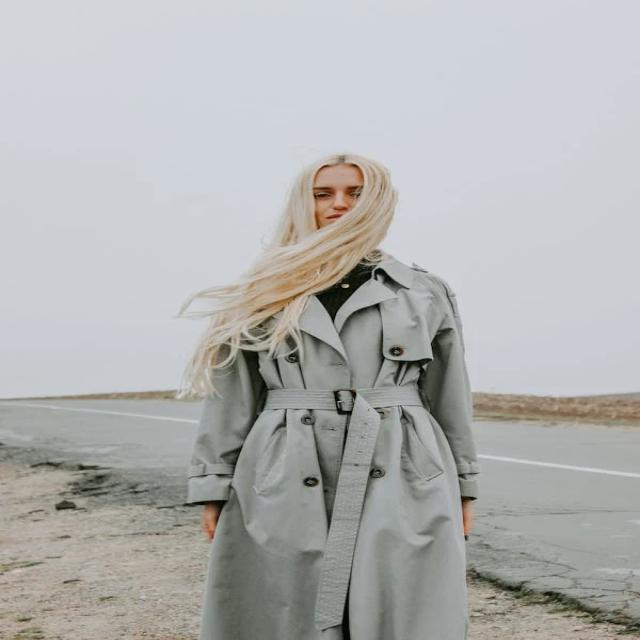Real human 2: (180, 141, 507, 640)
